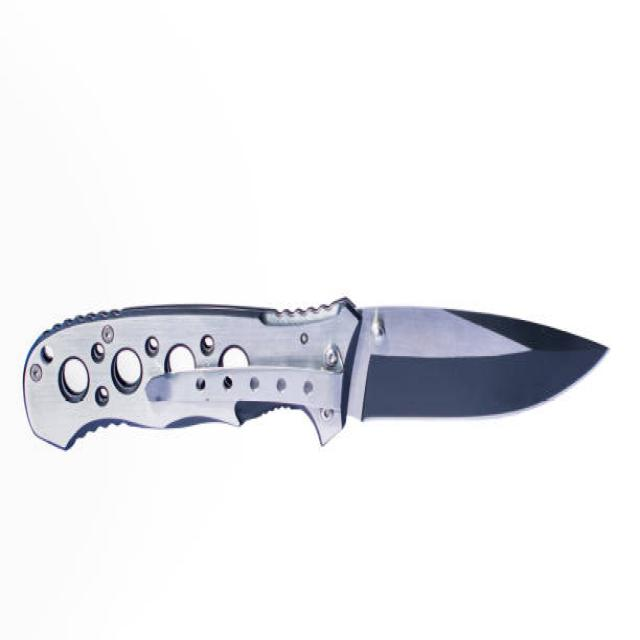knife: (17, 284, 613, 500)
